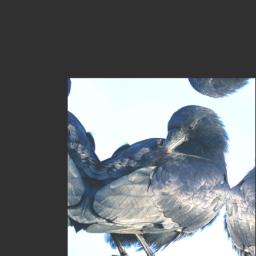Crow: (68, 83, 253, 256)
